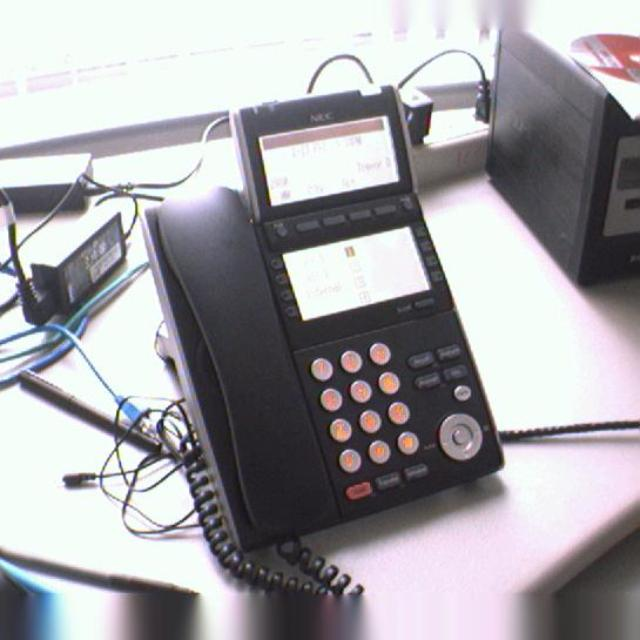Telephone-Set: (137, 79, 508, 554)
